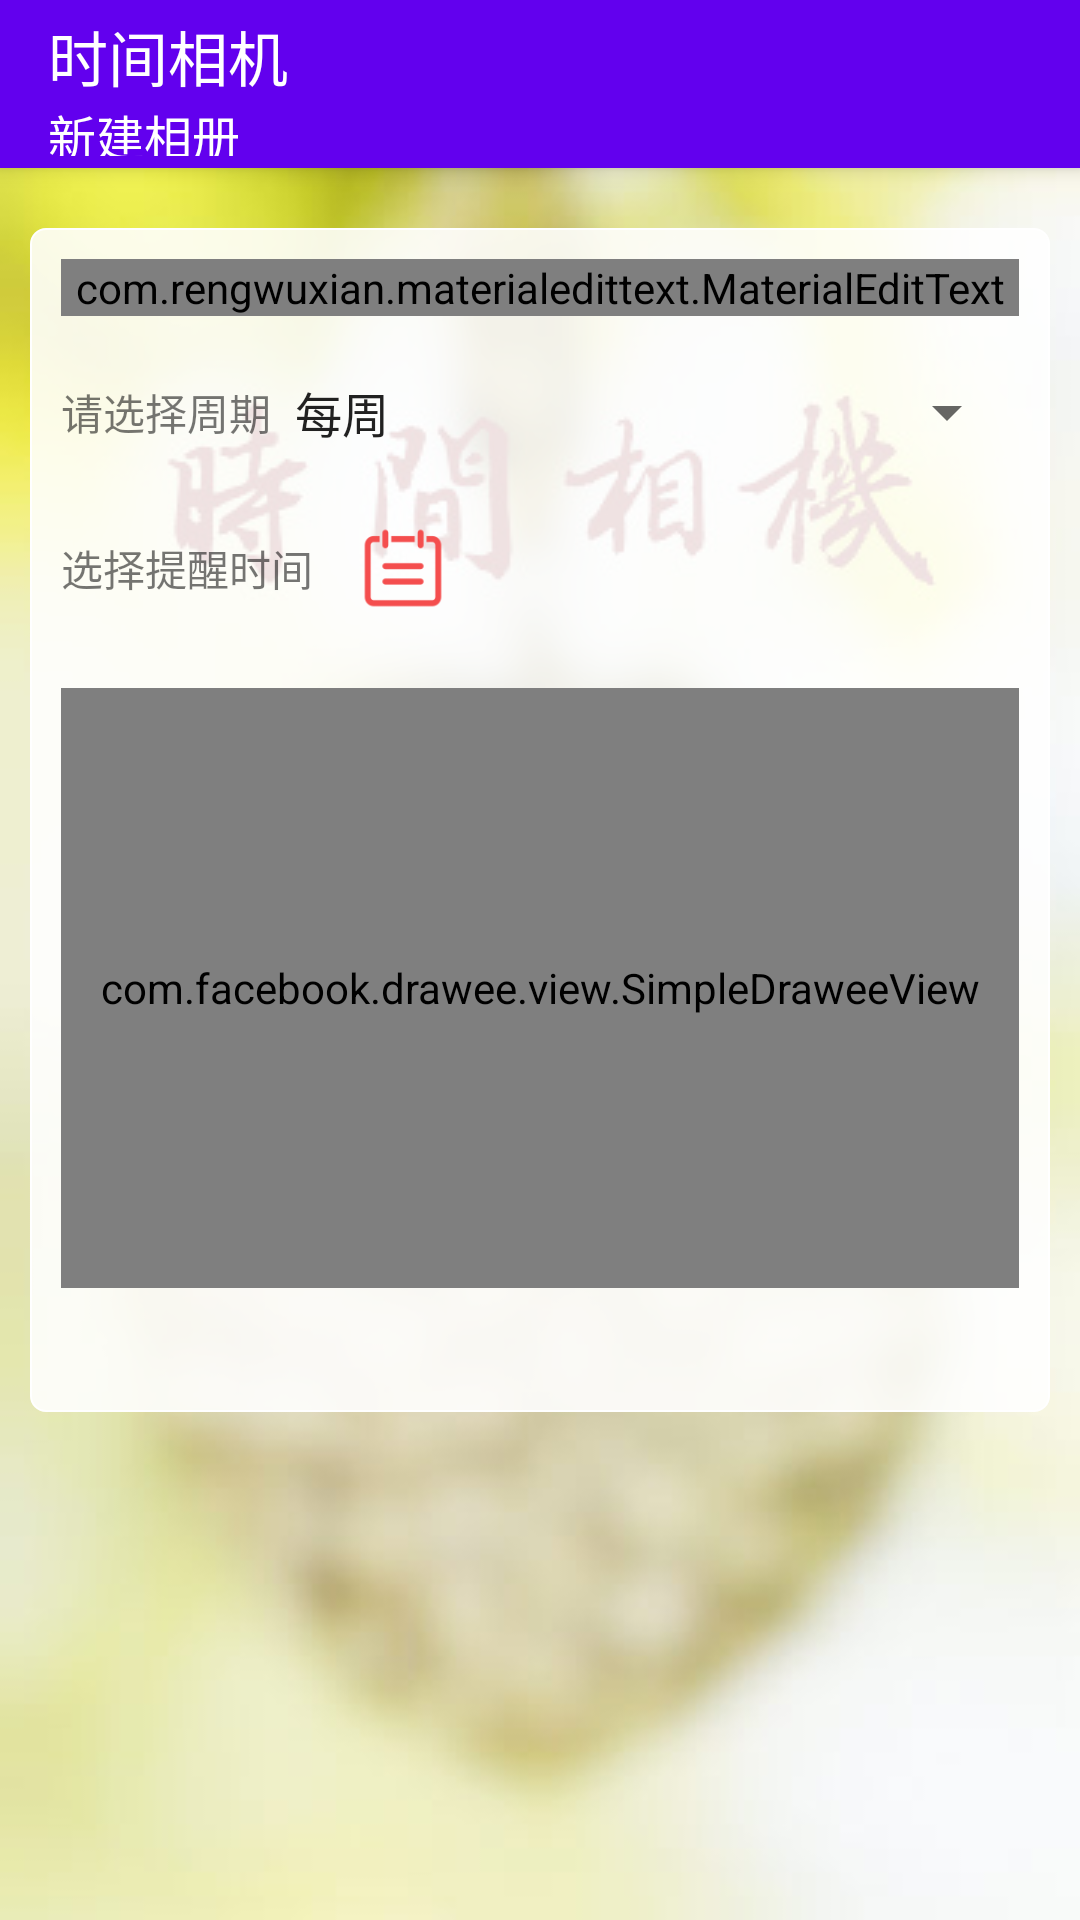

Named icons in this screenshot (1080 x 1920) and their centers, point (x, y):
picktime: point (411, 557)
